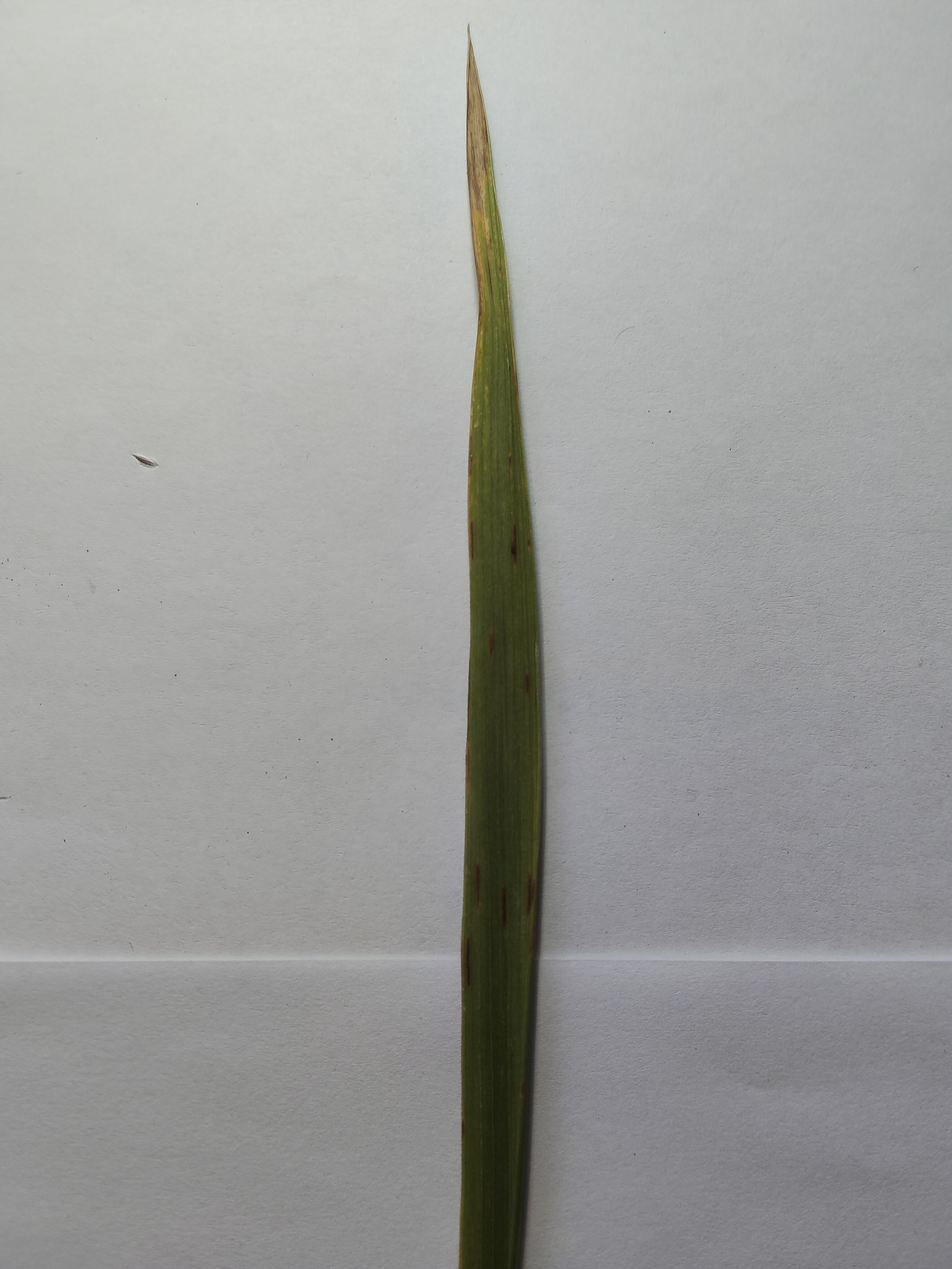NBS: (526, 873, 535, 916), (509, 522, 518, 563), (465, 937, 472, 987), (469, 520, 475, 561), (501, 884, 506, 929), (476, 864, 481, 904), (489, 626, 494, 656), (523, 669, 528, 695)
